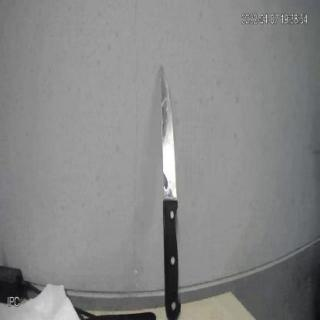knife: (154, 62, 202, 320)
